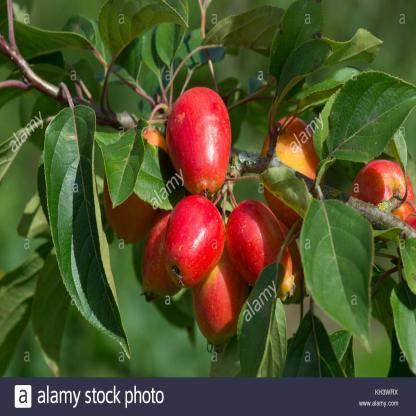Apple leaf: (38, 104, 141, 368), (288, 185, 388, 365), (320, 44, 416, 170), (269, 0, 330, 138), (232, 252, 292, 376), (106, 118, 168, 218)
